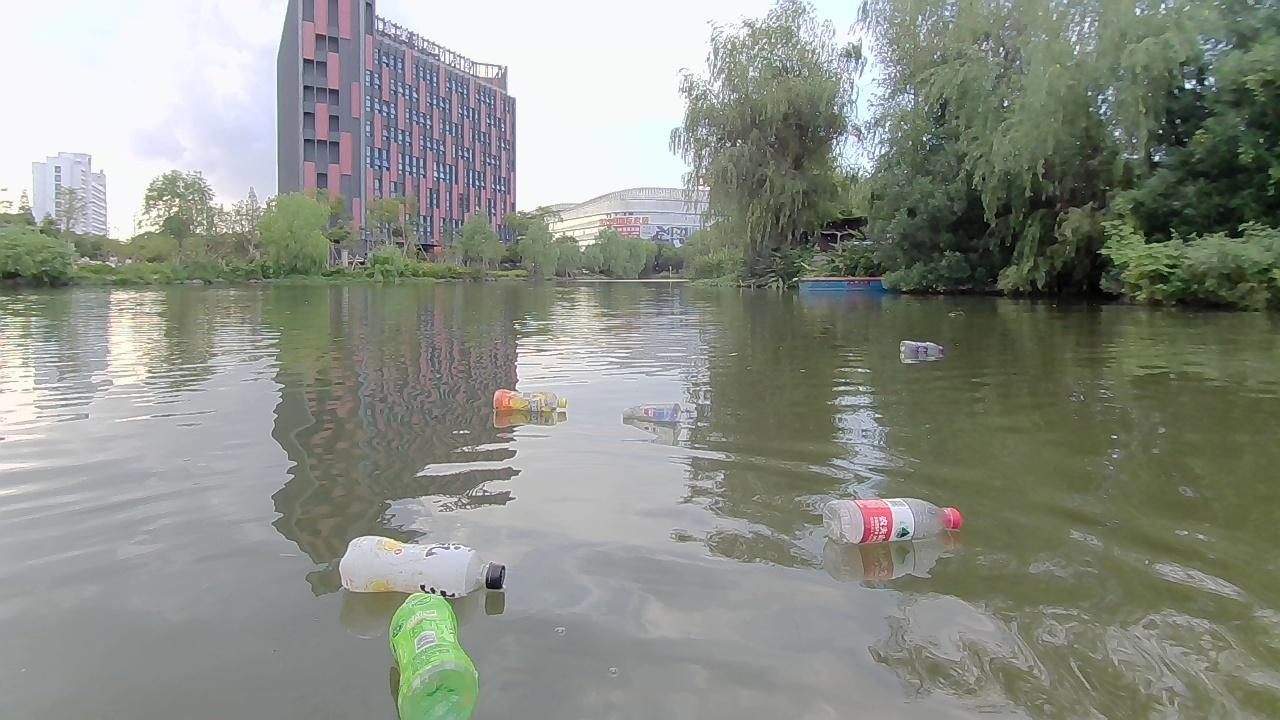bottle: (385, 597, 484, 714), (334, 534, 506, 597), (818, 497, 964, 548), (487, 382, 570, 418), (619, 401, 681, 425), (897, 338, 944, 359)
